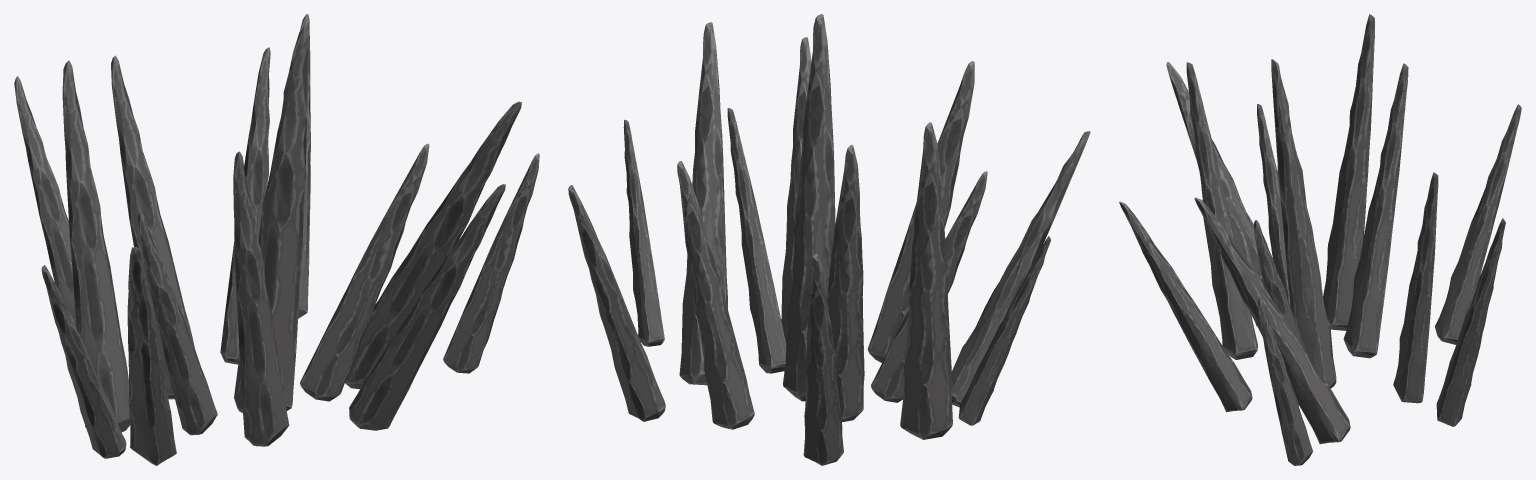
The model's file is StoneSpikes.fbx.
3 renders of one model, left to right at view 1: azimuth 30°, elevation 25°; view 2: azimuth 150°, elevation 25°; view 3: azimuth 270°, elevation 25°, orthographic. The views are drawn at different scales.
Visible parts, largest first — view 1: StoneSpikes01; view 2: StoneSpikes01; view 3: StoneSpikes01.
Part boxes in pixels (left/top/right/bottom): StoneSpikes01: left=14, top=14, right=539, bottom=465; StoneSpikes01: left=568, top=14, right=1090, bottom=465; StoneSpikes01: left=1119, top=14, right=1521, bottom=465.
Size of the model in its own units: 382 by 309 by 328.
1 material, 1 textured.
